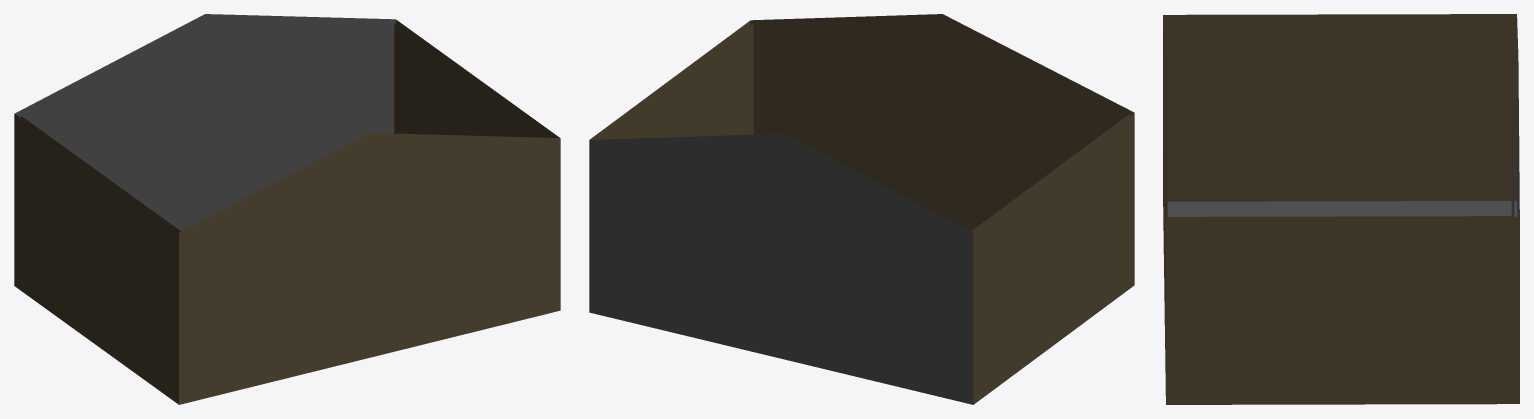
3 views of the same model, side by side, from view 1: azimuth 30°, elevation 25°; view 2: azimuth 150°, elevation 25°; view 3: azimuth 270°, elevation 25° (orthographic). The views are drawn at different scales.
Parts seen in each view (by area): view 1: Cube.003, Cube.004; view 2: Cube.003, Cube.004; view 3: Cube.003, Cube.004.
Part boxes in pixels (x1,y1,x2,y2): Cube.003: [14, 14, 560, 404]; Cube.004: [21, 18, 552, 232]; Cube.003: [589, 14, 1134, 404]; Cube.004: [597, 17, 1129, 232]; Cube.003: [1163, 14, 1519, 404]; Cube.004: [1165, 17, 1514, 217].
Bounding box in the file's own units: 1349 × 754 × 999.
2 materials, 1 textured.
